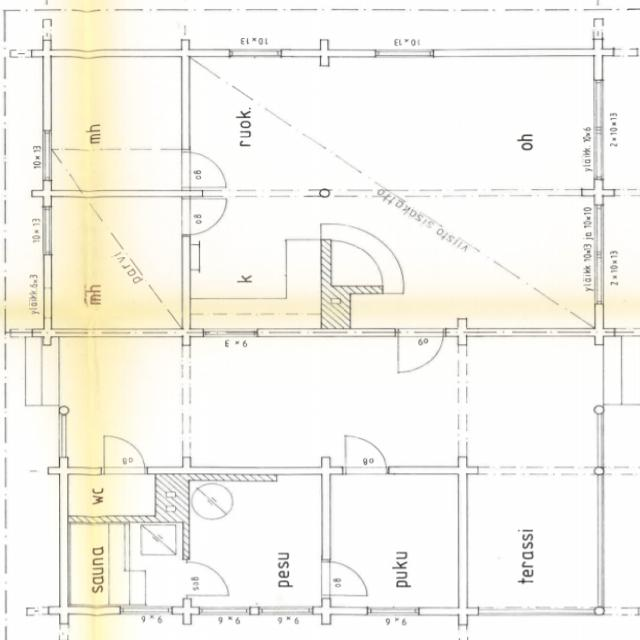door: (397, 329, 443, 376), (182, 199, 231, 235), (104, 433, 144, 475), (346, 434, 386, 475), (182, 152, 230, 186), (321, 562, 368, 596), (182, 562, 228, 596)
